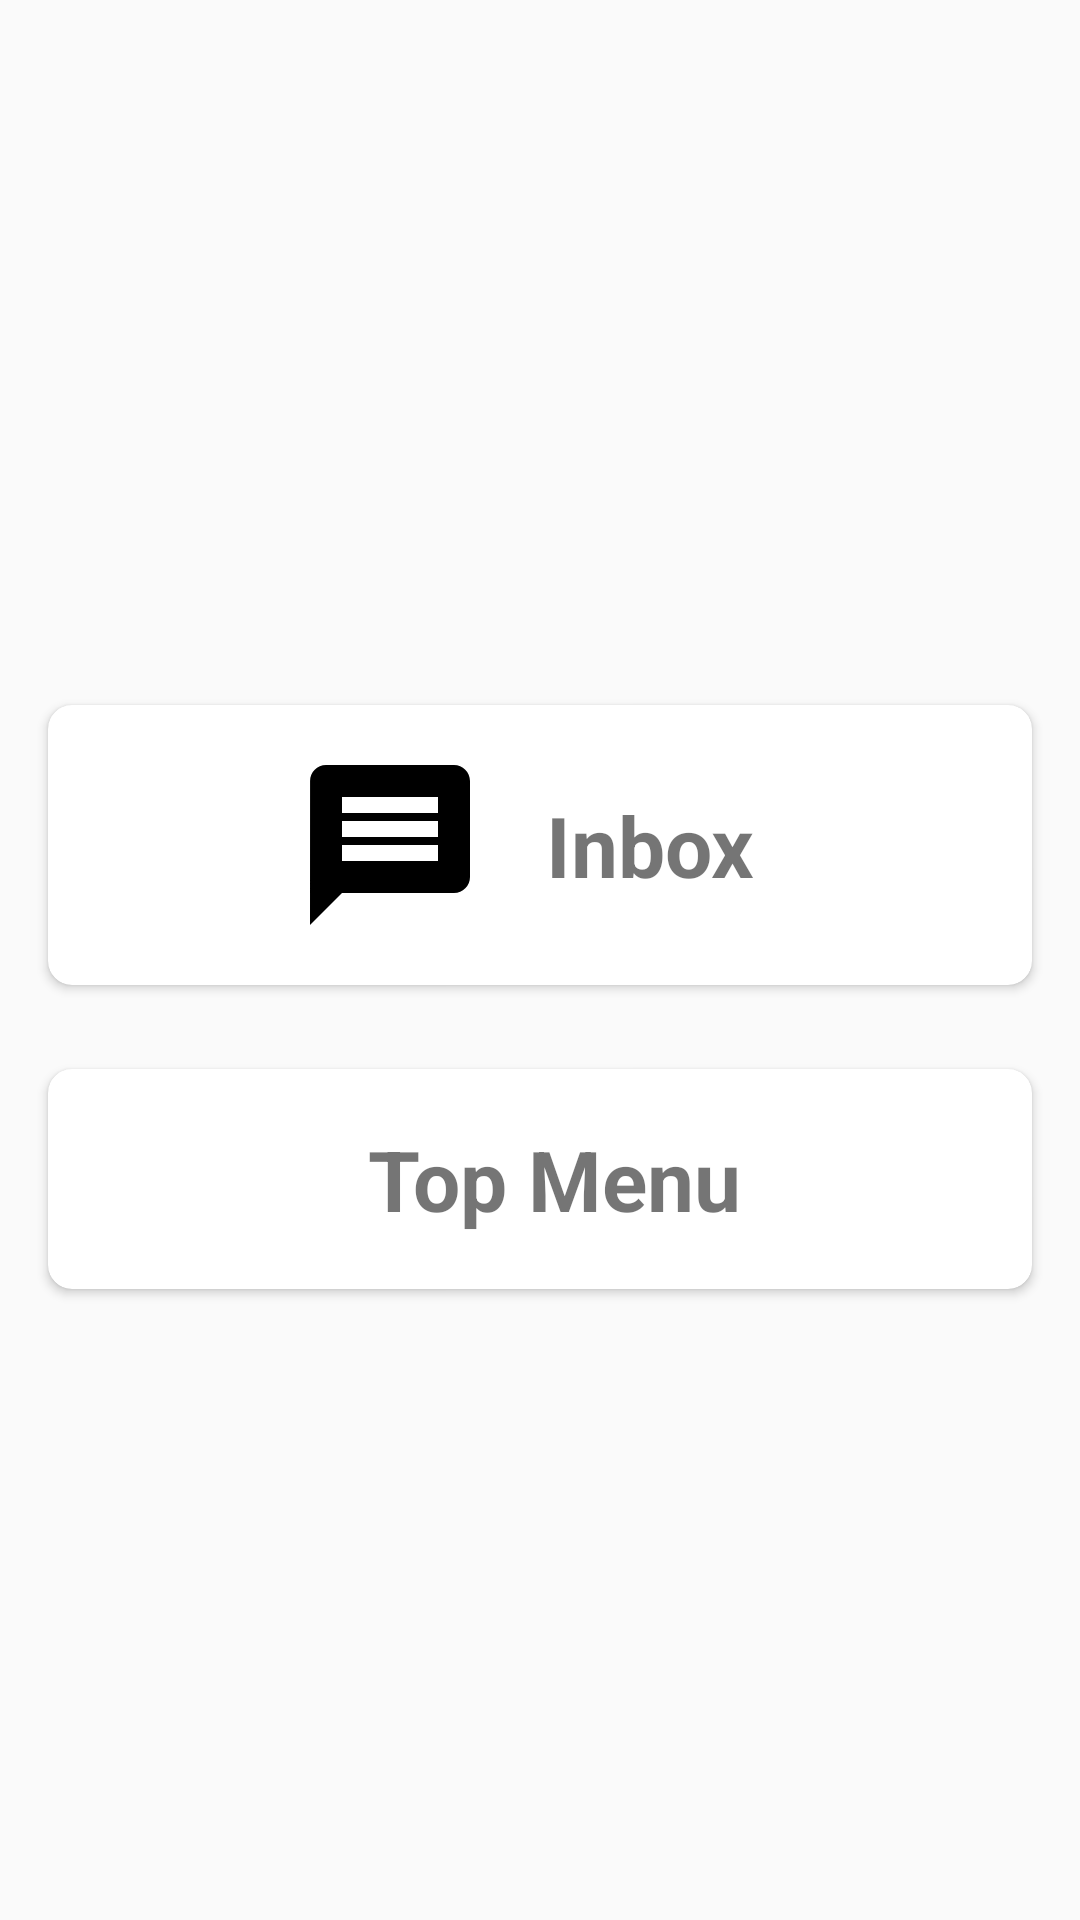

Where to tap for icons on this 1080 x 1920 app screen, as (x,y):
message: (390,845)
